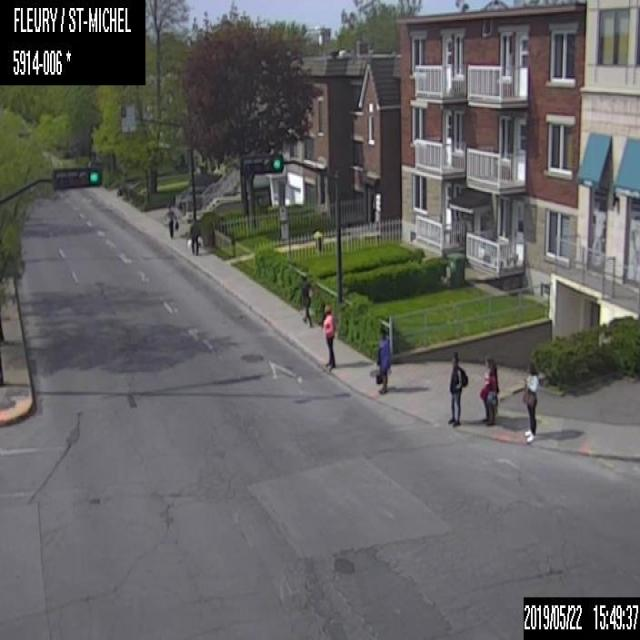pedestrian: (446, 351, 468, 426), (480, 357, 500, 423), (523, 357, 538, 444), (374, 326, 392, 394), (321, 303, 335, 369), (162, 202, 178, 238), (301, 276, 312, 328), (186, 219, 201, 257)
